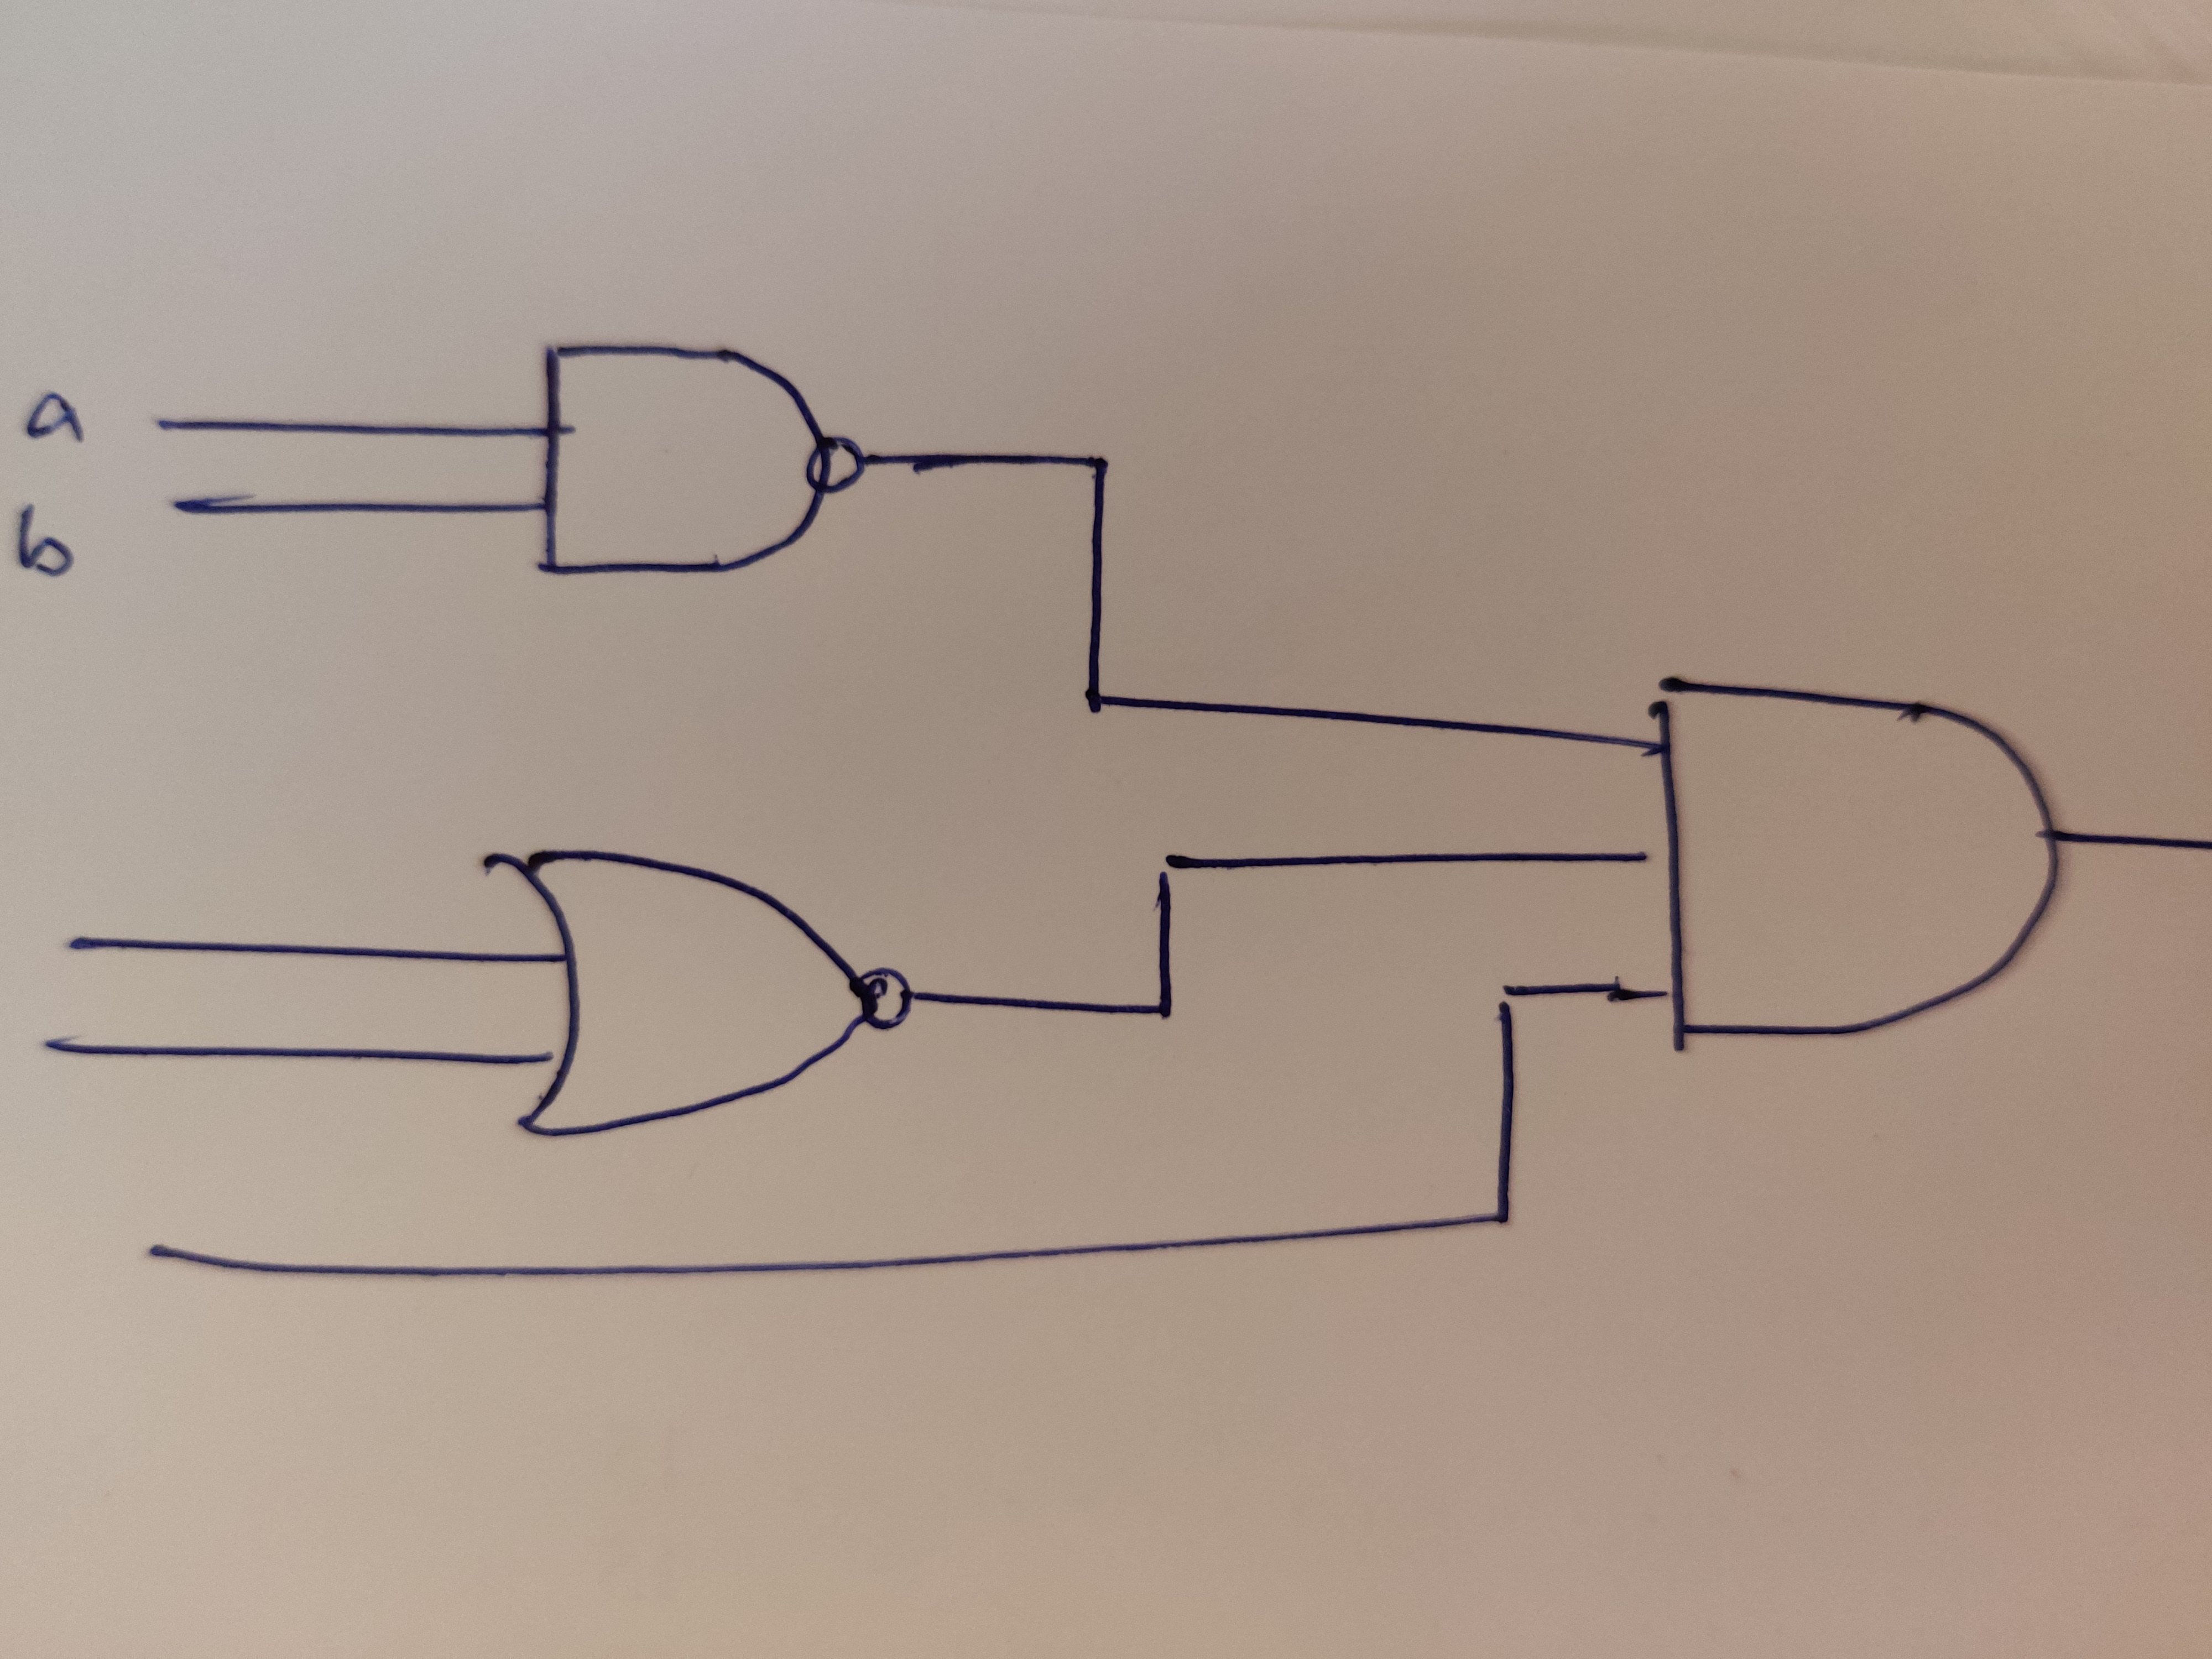and: (1604, 650, 2099, 1089)
nand: (519, 307, 881, 617)
nor: (451, 805, 949, 1175)
